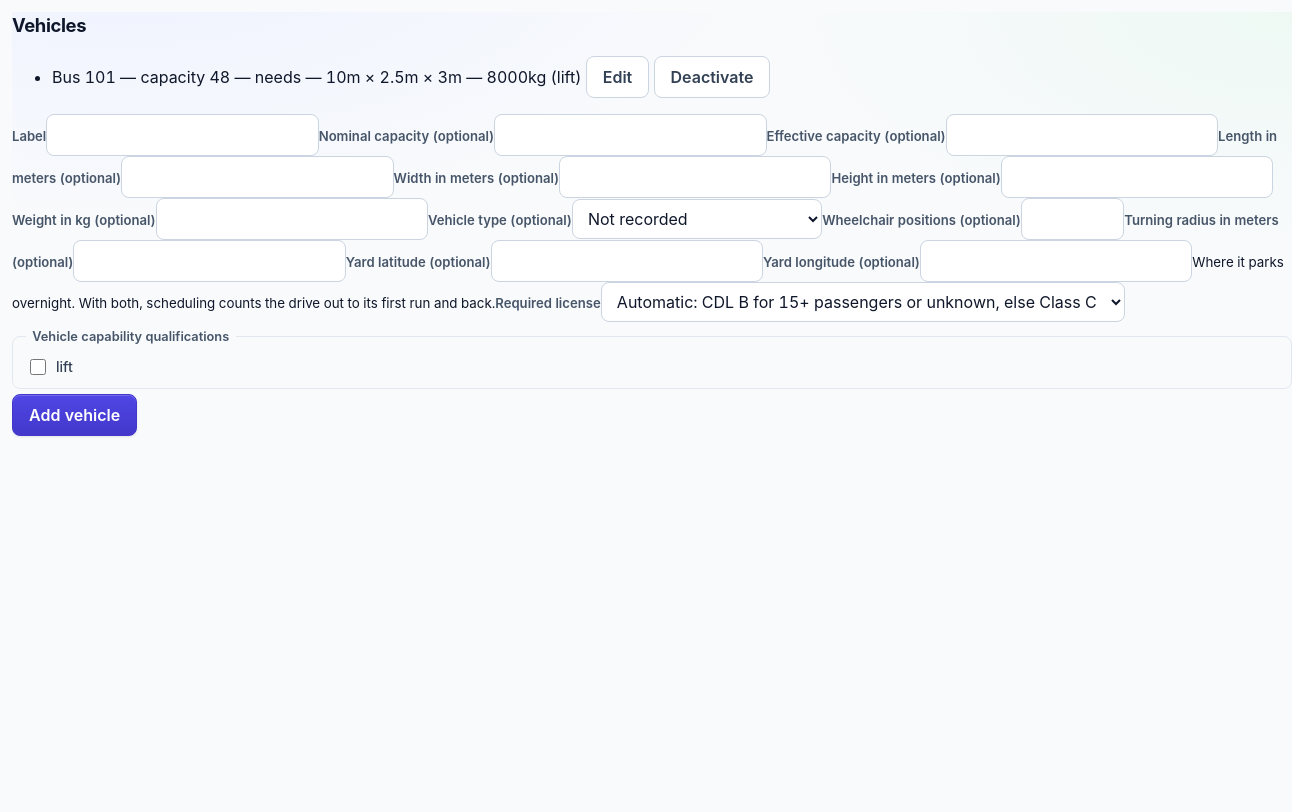
Test case: VehiclesSection › opens the edit form pre-filled, edits fields and qualifications, and saves
Click the button "Edit" at (617, 77), box [586,56,649,98]
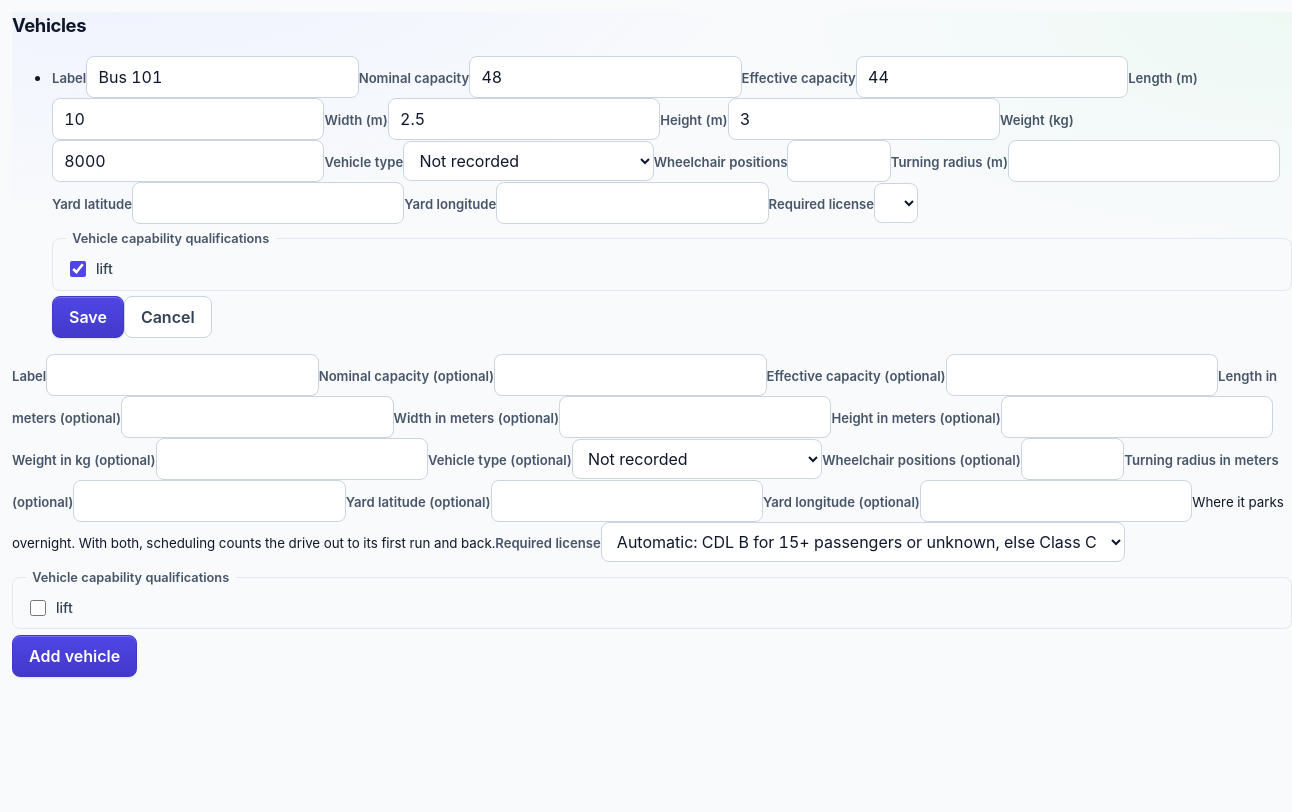
Expected: the field labelled "Label" in the row of "Length (m)" holds "Bus 101"
Expected: the number field labelled "Nominal capacity" holds "48", [469,56,742,98]
Expected: the checkbox labelled "lift" below "Width (m)" is checked, [70,261,86,277]
Replace the text in the field labelled "Label" in the row of "Length (m)" with "Bus 101-A" at (222, 77), box [86,56,359,98]
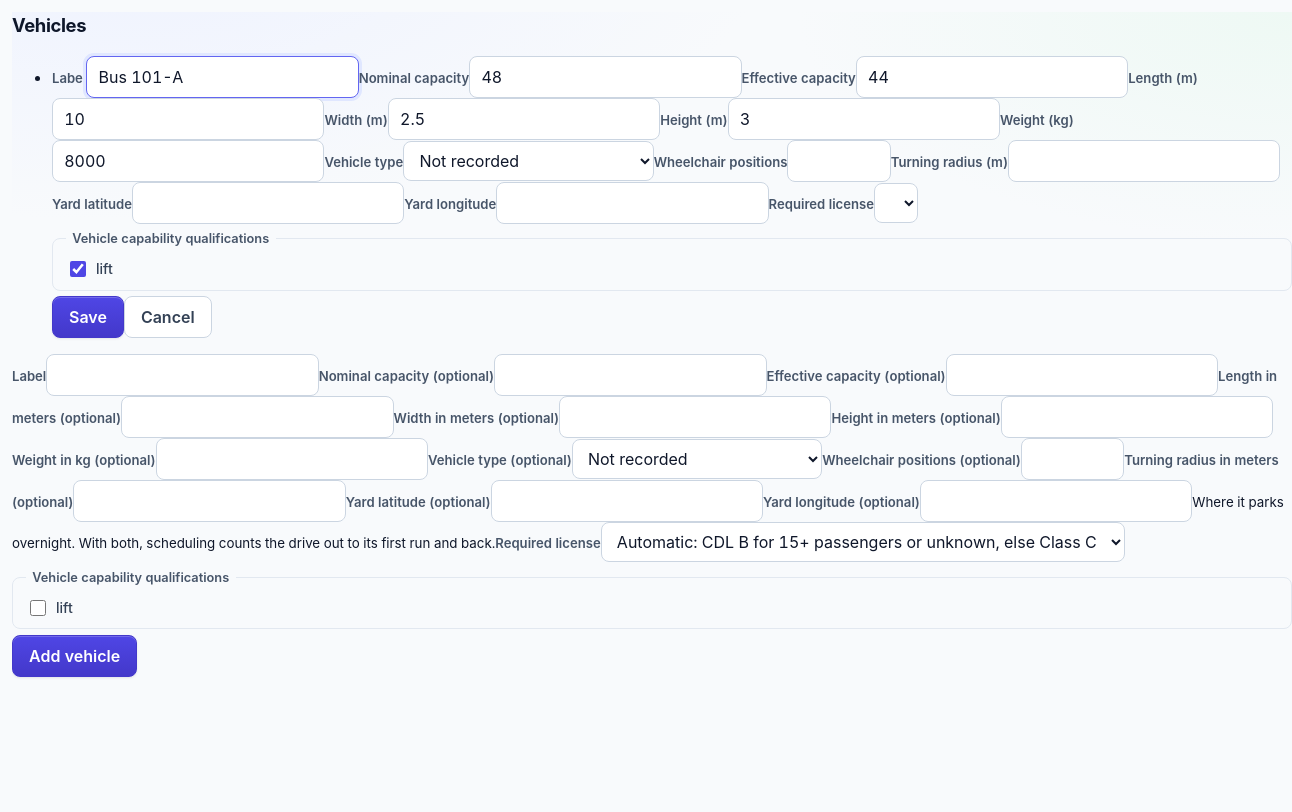
Click the checkbox labelled "lift" below "Width (m)" at (78, 269), box [70,261,86,277]
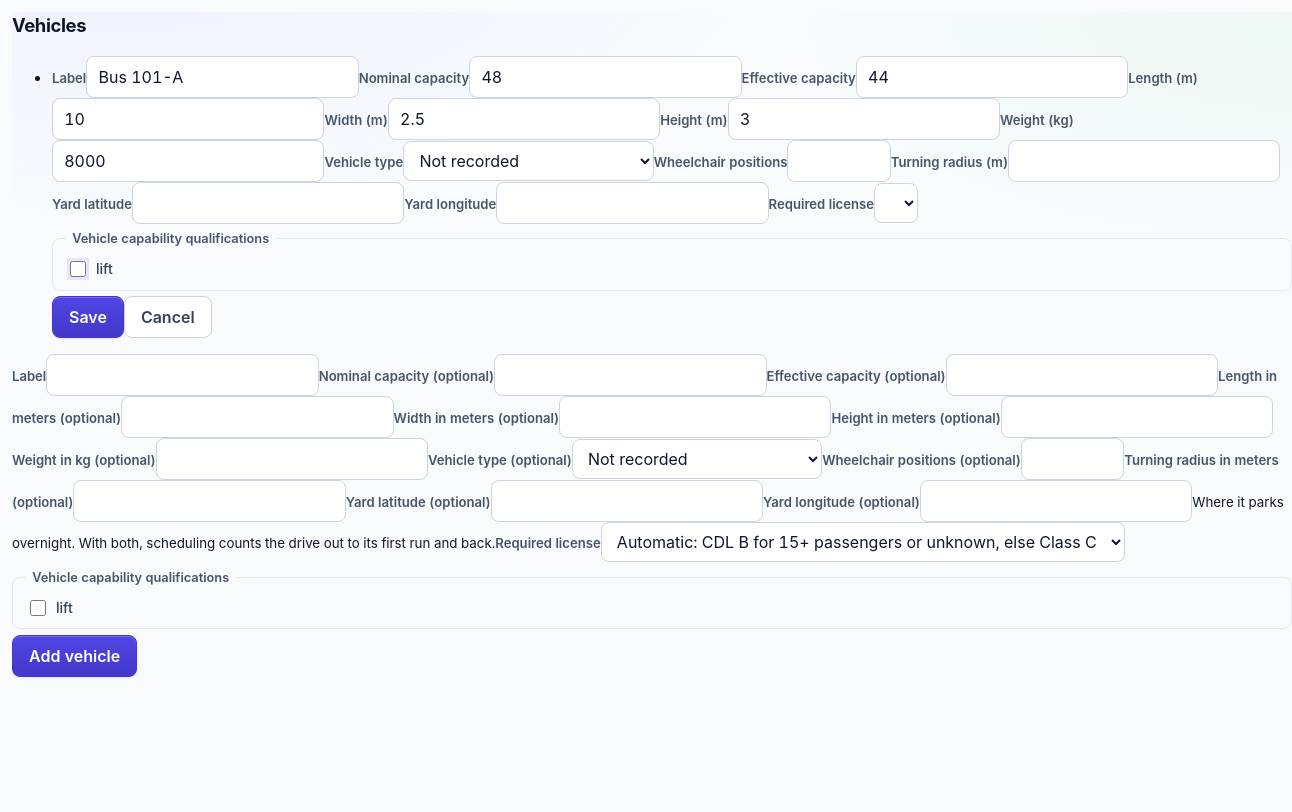
Click the button "Save" at (88, 317), box [52,296,124,338]
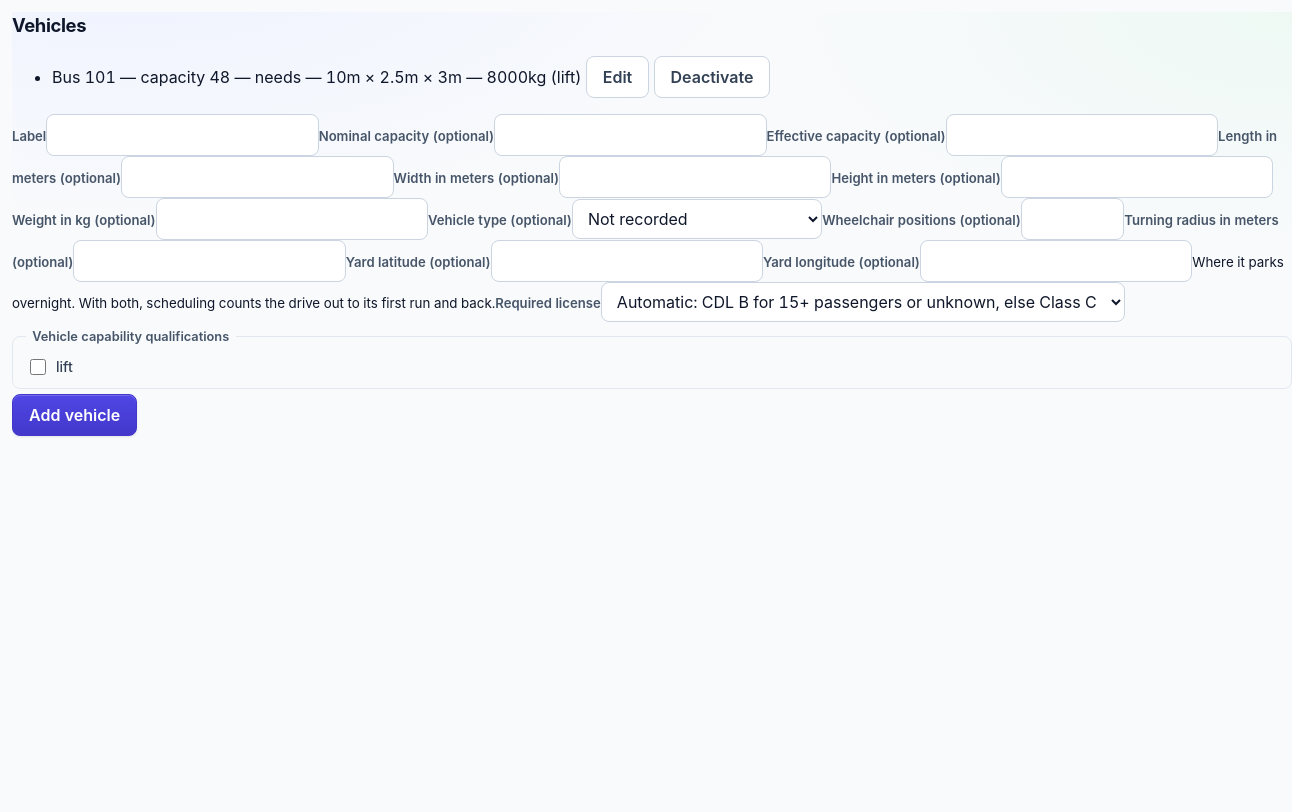
Expected: the button "Save" is gone
